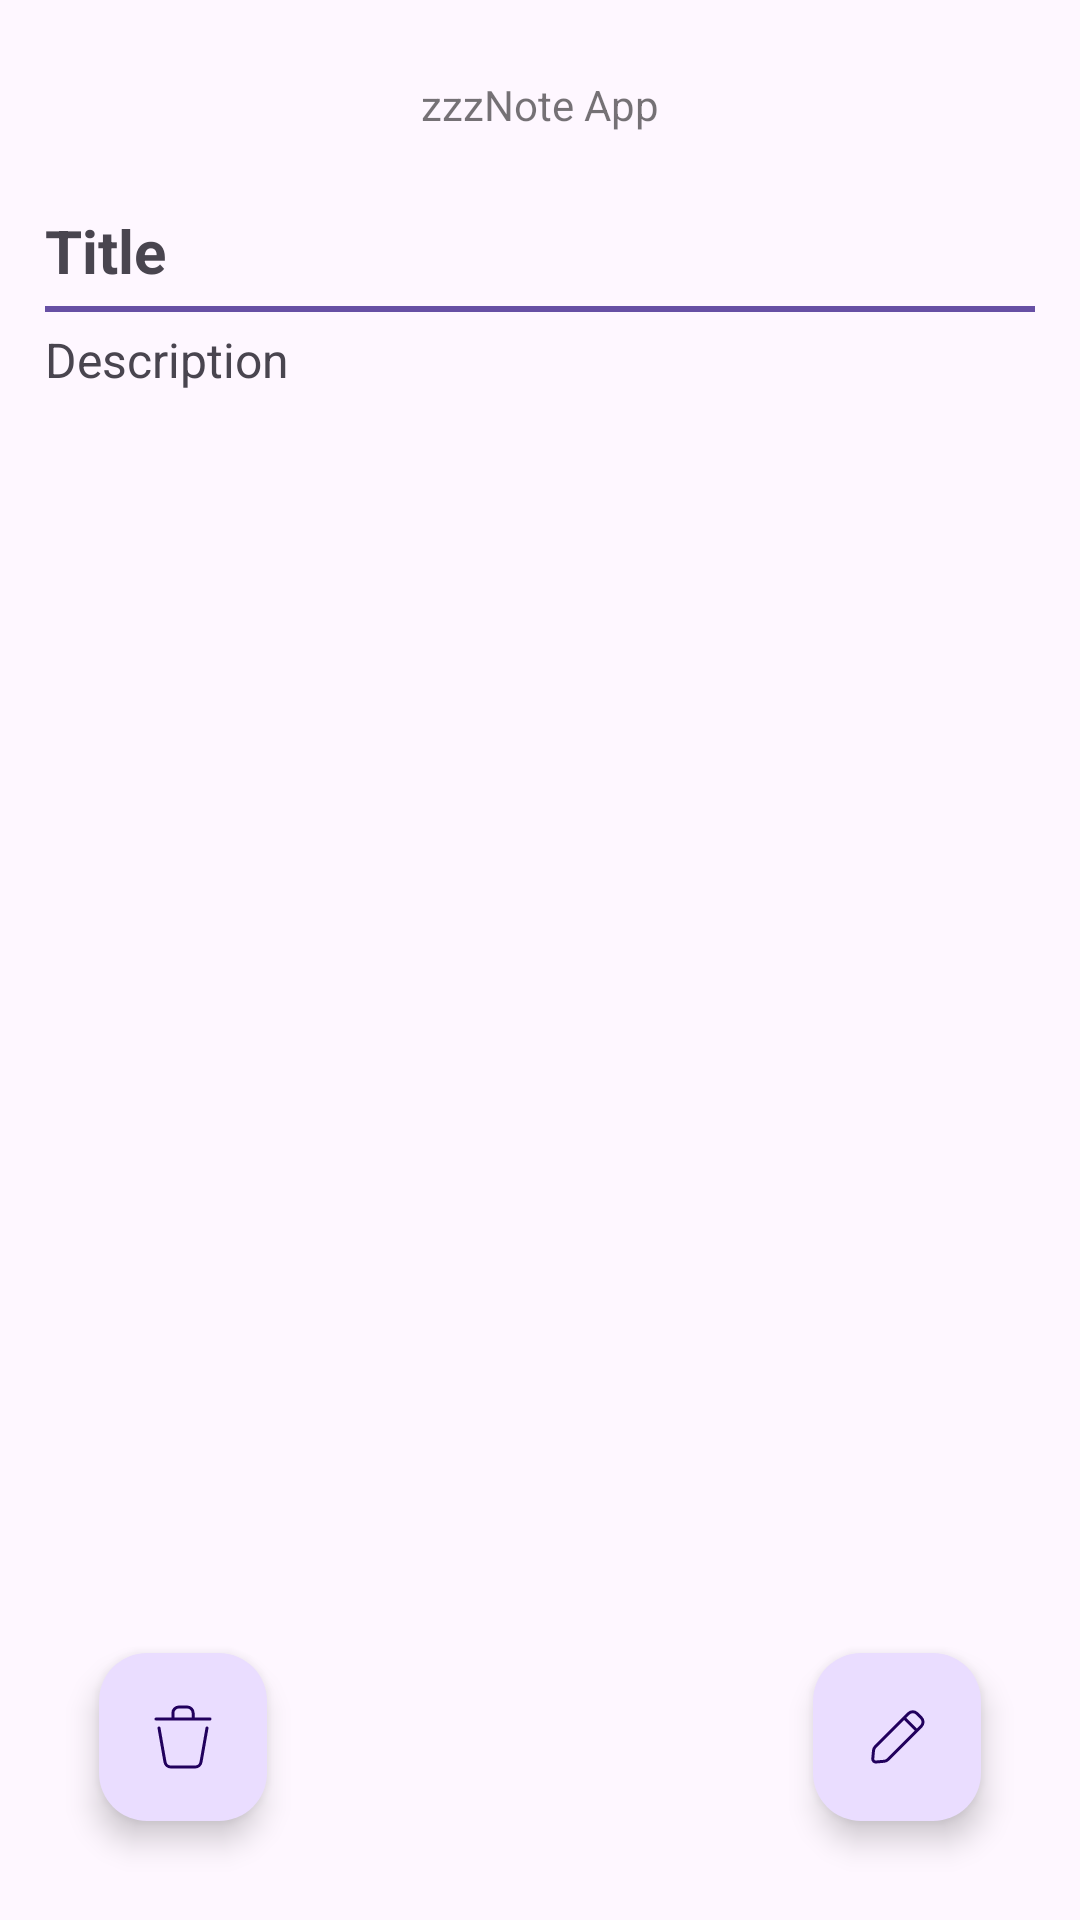

Point at icon controls on the screen. Image size 1080w x 1920h, points as (x=x, y=y).
Delete Note Button: (x=183, y=1737)
